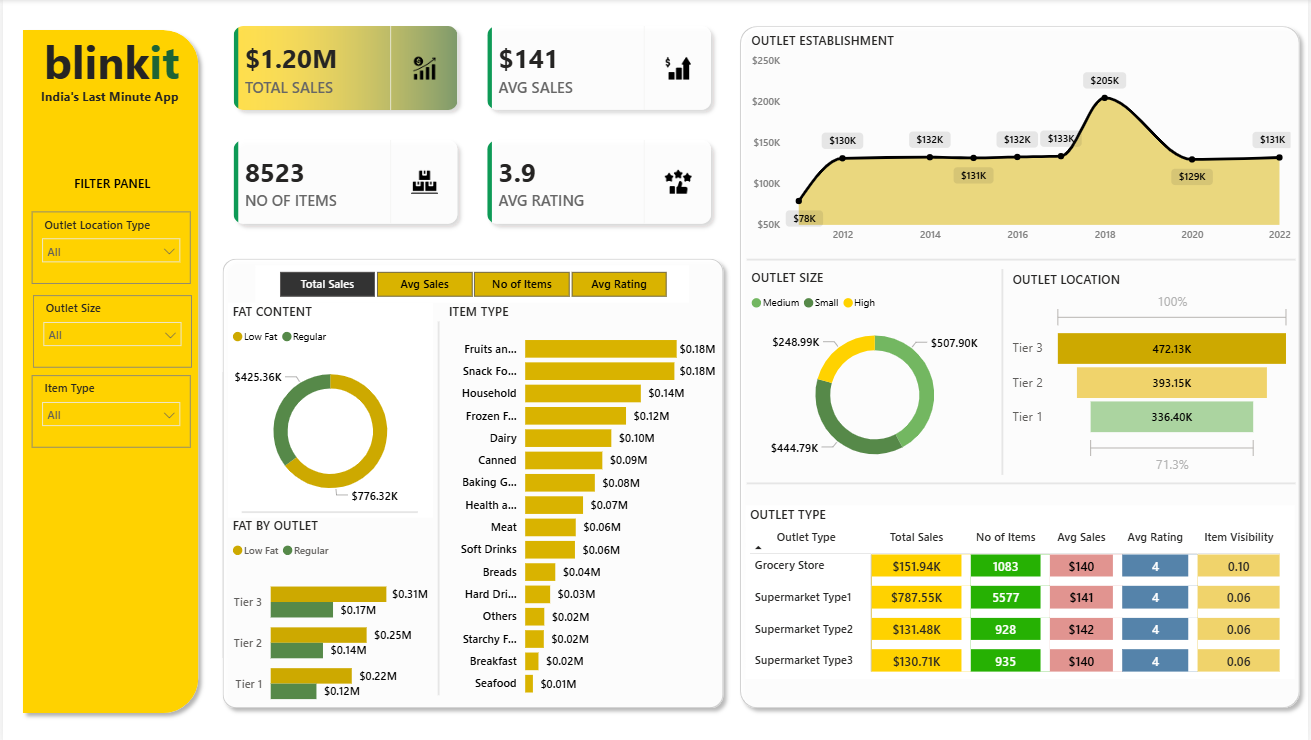

This screenshot's page, from the dashboard's own definition file:
{"tool":"powerbi","page":{"name":"Page 1","canvas":[1400,800],"ordinal":0},"visuals":[{"type":"shape","box":[12.1,24.1,206.4,750.7],"z":0},{"type":"textbox","box":[26.8,29.5,179.6,75.1],"z":1000},{"type":"textbox","box":[26.8,89.8,175.6,29.5],"z":2000},{"type":"cardVisual","fields":{"Data":["BlinkIT Grocery Data.Total Sales","BlinkIT Grocery Data.Avg Sales","BlinkIT Grocery Data.No of Items","BlinkIT Grocery Data.Avg Rating"]},"box":[218.5,0,570,270],"z":3000},{"type":"shape","box":[226.5,269.4,555,500],"z":4000},{"type":"donutChart","title":"FAT CONTENT","fields":{"Y":["BlinkIT Grocery Data.Total Sales"],"Category":["BlinkIT Grocery Data.Item Fat Content"]},"box":[241.3,325.7,219.8,230.6],"z":5000},{"type":"slicer","fields":{"Values":["Metrics.Metrics"]},"box":[270.8,285.5,465.1,40.2],"z":6000},{"type":"clusteredBarChart","title":"FAT BY OUTLET","fields":{"Y":["BlinkIT Grocery Data.Total Sales"],"Category":["BlinkIT Grocery Data.Outlet Location Type"],"Series":["BlinkIT Grocery Data.Item Fat Content"]},"box":[241.3,555,219.8,219.8],"z":7000},{"type":"shape","box":[256,544.2,189,12.1],"z":8000},{"type":"shape","box":[461.1,345.8,12.1,400.8],"z":9000},{"type":"barChart","title":"ITEM TYPE","fields":{"Y":["BlinkIT Grocery Data.Total Sales"],"Category":["BlinkIT Grocery Data.Item Type"]},"box":[473.2,325.7,296.2,433],"z":10000},{"type":"shape","box":[781.5,20.1,618,749.3],"z":11000},{"type":"lineChart","title":"OUTLET ESTABLISHMENT","fields":{"Y":["BlinkIT Grocery Data.Total Sales"],"Category":["BlinkIT Grocery Data.Outlet Establishment Year"]},"box":[797.6,34.9,588.5,234.6],"z":12000},{"type":"shape","box":[797.6,273.5,588.5,12.1],"z":13000},{"type":"donutChart","title":"OUTLET SIZE","fields":{"Y":["BlinkIT Grocery Data.Total Sales"],"Category":["BlinkIT Grocery Data.Outlet Size"]},"box":[797.6,289.5,275,225],"z":14000},{"type":"shape","box":[1065.7,289.5,12.1,221.2],"z":15000},{"type":"funnel","title":"OUTLET LOCATION","fields":{"Y":["Sum(BlinkIT Grocery Data.Sales)"],"Category":["BlinkIT Grocery Data.Outlet Location Type"]},"box":[1077.8,290.9,308.3,223.9],"z":16000},{"type":"shape","box":[797.6,513.4,588.5,12.1],"z":17000},{"type":"pivotTable","title":"OUTLET TYPE","fields":{"Rows":["BlinkIT Grocery Data.Outlet Type"],"Values":["BlinkIT Grocery Data.Total Sales","BlinkIT Grocery Data.No of Items","BlinkIT Grocery Data.Avg Sales","BlinkIT Grocery Data.Avg Rating","Avg(BlinkIT Grocery Data.Item Visibility)"]},"box":[796.3,542.9,588.5,186.3],"z":18000},{"type":"slicer","fields":{"Values":["BlinkIT Grocery Data.Outlet Location Type"]},"box":[30.8,227.9,170.2,77.7],"z":19000},{"type":"slicer","fields":{"Values":["BlinkIT Grocery Data.Outlet Size"]},"box":[32.2,317.7,170.2,77.7],"z":20000},{"type":"slicer","fields":{"Values":["BlinkIT Grocery Data.Item Type"]},"box":[30.8,403.5,170.2,77.7],"z":21000},{"type":"textbox","box":[65.7,183.6,103.2,34.9],"z":21001}]}

Visuals, with their boxes in screenshot pixels (x1, y1, x2, y2), scaled from the page's 1400x800 canvas onto the 1311x740 screenshot:
shape: left=11, top=22, right=205, bottom=717
textbox: left=25, top=27, right=193, bottom=97
textbox: left=25, top=83, right=190, bottom=110
cardVisual - BlinkIT Grocery Data.Total Sales x BlinkIT Grocery Data.Avg Sales: left=205, top=0, right=738, bottom=250
shape: left=212, top=249, right=732, bottom=712
"FAT CONTENT" donutChart: left=226, top=301, right=432, bottom=515
slicer - Metrics.Metrics: left=254, top=264, right=689, bottom=301
"FAT BY OUTLET" clusteredBarChart: left=226, top=513, right=432, bottom=717
shape: left=240, top=503, right=417, bottom=515
shape: left=432, top=320, right=443, bottom=691
"ITEM TYPE" barChart: left=443, top=301, right=720, bottom=702
shape: left=732, top=19, right=1310, bottom=712
"OUTLET ESTABLISHMENT" lineChart: left=747, top=32, right=1298, bottom=249
shape: left=747, top=253, right=1298, bottom=264
"OUTLET SIZE" donutChart: left=747, top=268, right=1004, bottom=476
shape: left=998, top=268, right=1009, bottom=472
"OUTLET LOCATION" funnel: left=1009, top=269, right=1298, bottom=476
shape: left=747, top=475, right=1298, bottom=486
"OUTLET TYPE" pivotTable: left=746, top=502, right=1297, bottom=675
slicer - BlinkIT Grocery Data.Outlet Location Type: left=29, top=211, right=188, bottom=283
slicer - BlinkIT Grocery Data.Outlet Size: left=30, top=294, right=190, bottom=366
slicer - BlinkIT Grocery Data.Item Type: left=29, top=373, right=188, bottom=445
textbox: left=62, top=170, right=158, bottom=202
